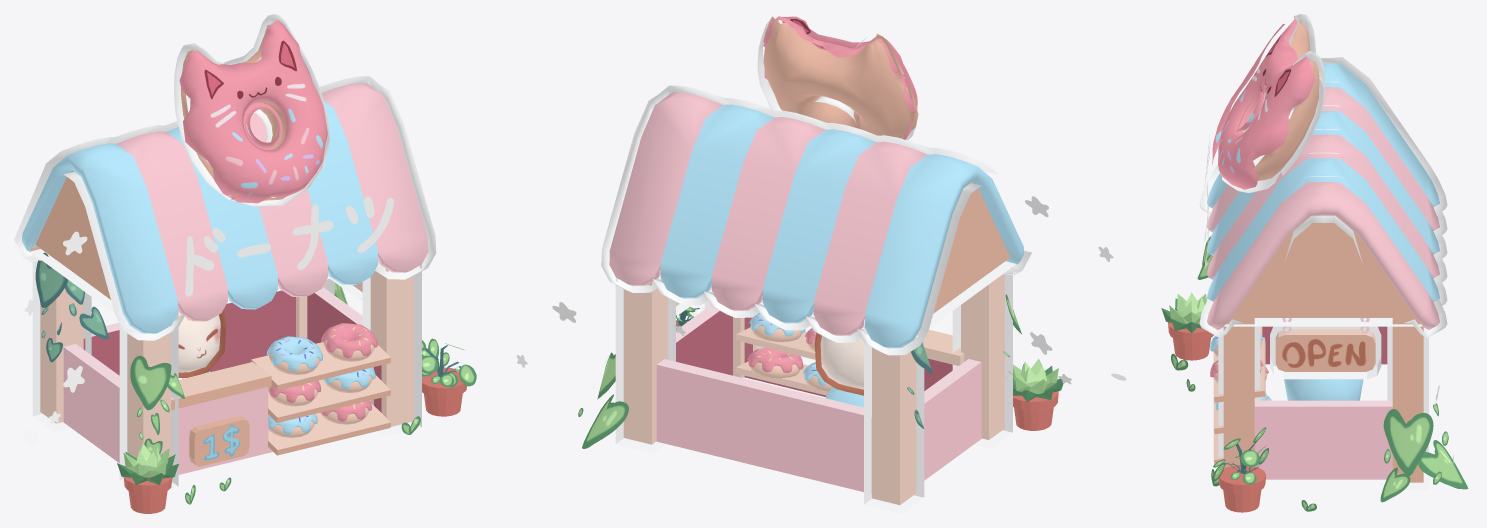
The picture shows the model from 3 angles, left to right: view 1: azimuth 30°, elevation 25°; view 2: azimuth 150°, elevation 25°; view 3: azimuth 270°, elevation 25°; orthographic projection. The views are drawn at different scales.
Visible parts, largest first — view 1: topper.001, topper.004, Cube.016, Plane.066, topper.003, PolySphere.001, topper.002, Torus.010, Plane.040, Cylinder.001, Torus.013, Cylinder (+8 smaller); view 2: topper.001, topper.004, PolySphere.001, Cube.016, Torus.012, Cylinder, Plane.038, topper.003, Torus.011; view 3: topper.001, topper.004, Plane.033, Cube.005, Cylinder.001, Plane.038, Cylinder, Cube.016, Plane.034, Cube.021, Cube.022.
Boxes of the visible parts, <box> form: topper.001: <box>14,14,436,488</box>; topper.004: <box>63,287,381,474</box>; Cube.016: <box>251,342,390,455</box>; Plane.066: <box>185,196,393,296</box>; topper.003: <box>171,362,271,410</box>; PolySphere.001: <box>178,310,226,378</box>; topper.002: <box>189,416,249,466</box>; Torus.010: <box>321,323,377,361</box>; Plane.040: <box>130,355,171,410</box>; Cylinder.001: <box>422,367,466,416</box>; Torus.013: <box>266,336,322,371</box>; Cylinder: <box>124,476,172,513</box>; topper.001: <box>601,16,1031,513</box>; topper.004: <box>656,305,981,493</box>; PolySphere.001: <box>814,332,863,395</box>; Cube.016: <box>735,327,828,395</box>; Torus.012: <box>747,347,803,378</box>; Cylinder: <box>1013,391,1058,430</box>; Plane.038: <box>582,394,628,448</box>; topper.003: <box>924,329,964,365</box>; Torus.011: <box>749,313,805,342</box>; topper.001: <box>1199,14,1447,489</box>; topper.004: <box>1254,326,1392,479</box>; Plane.033: <box>1383,409,1433,475</box>; Cube.005: <box>1284,379,1363,400</box>; Cylinder.001: <box>1218,465,1265,512</box>; Plane.038: <box>1418,440,1468,489</box>; Cylinder: <box>1168,322,1213,360</box>; Cube.016: <box>1213,337,1265,464</box>; Plane.034: <box>1380,467,1410,502</box>; Cube.021: <box>1169,294,1206,323</box>; Cube.022: <box>1177,292,1204,316</box>.
Bounding box in the file's own units: 14.67 × 11.98 × 8.38.
Materials: 2 (2 with a texture image).
